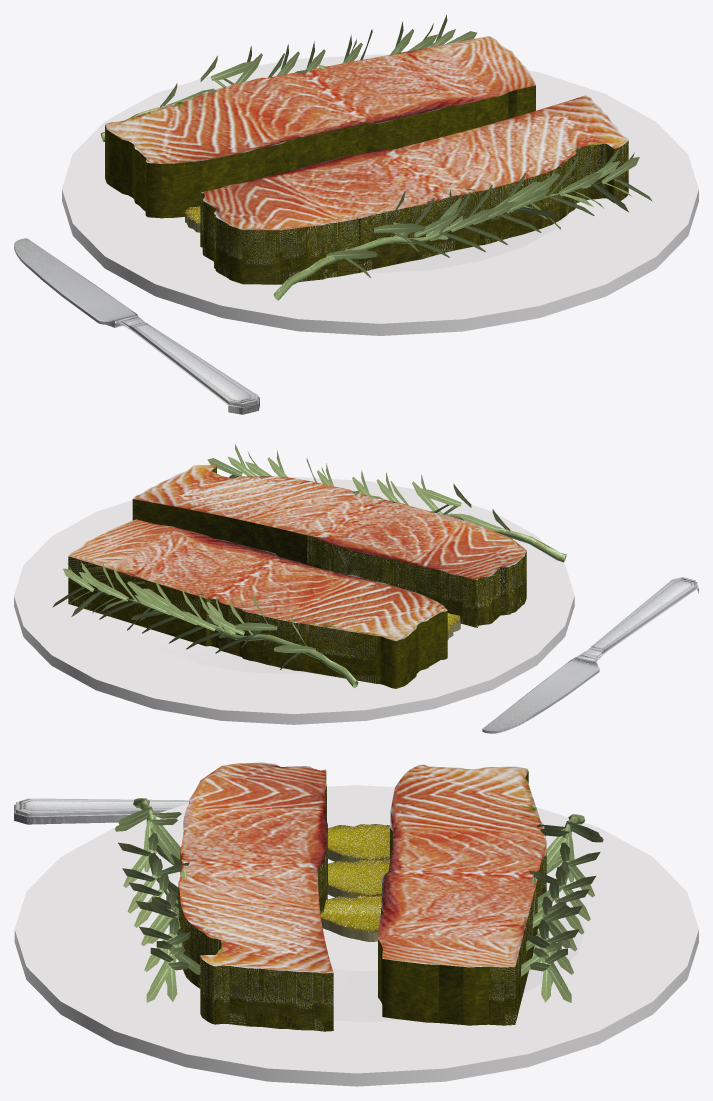
File: comida1.glb
3 renders of one model, top to bottom at view 1: azimuth 30°, elevation 25°; view 2: azimuth 150°, elevation 25°; view 3: azimuth 270°, elevation 25°, orthographic. The views are drawn at different scales.
Visible parts, largest first — view 1: group_2, group_1.001, group_1.005, group_1.006, group_1, group_7.004, group_2.001, group_0; view 2: group_2, group_1.001, group_1.005, group_1.003, group_1.006, group_7.004, group_1.002, group_1, group_2.001, group_3, group_0; view 3: group_2, group_1.001, group_1.005, group_1.006, group_1, group_2.001, group_7.004, group_1.003, group_6.001, group_4.001, group_5.001, group_0 (+2 smaller).
Boxes of the visible parts, x1=… form: group_2: x1=62, y1=54, x2=698, y2=335; group_1.001: x1=105, y1=36, x2=535, y2=163; group_1.005: x1=201, y1=95, x2=628, y2=230; group_1.006: x1=200, y1=140, x2=628, y2=284; group_1: x1=105, y1=85, x2=535, y2=218; group_7.004: x1=14, y1=238, x2=259, y2=414; group_2.001: x1=363, y1=211, x2=572, y2=272; group_0: x1=273, y1=173, x2=601, y2=300; group_2: x1=14, y1=477, x2=574, y2=724; group_1.001: x1=68, y1=519, x2=447, y2=641; group_1.005: x1=133, y1=465, x2=526, y2=579; group_1.003: x1=68, y1=556, x2=376, y2=683; group_1.006: x1=211, y1=466, x2=526, y2=627; group_7.004: x1=482, y1=577, x2=698, y2=733; group_1.002: x1=132, y1=499, x2=306, y2=564; group_1: x1=376, y1=610, x2=447, y2=688; group_2.001: x1=118, y1=619, x2=312, y2=674; group_3: x1=95, y1=580, x2=358, y2=688; group_0: x1=317, y1=470, x2=566, y2=562; group_2: x1=14, y1=785, x2=698, y2=1086; group_1.001: x1=378, y1=764, x2=546, y2=967; group_1.005: x1=178, y1=762, x2=333, y2=973; group_1.006: x1=178, y1=773, x2=333, y2=1031; group_1: x1=378, y1=771, x2=528, y2=1025; group_2.001: x1=145, y1=859, x2=585, y2=1022; group_7.004: x1=14, y1=798, x2=188, y2=824; group_1.003: x1=489, y1=842, x2=546, y2=1025; group_6.001: x1=328, y1=824, x2=390, y2=860; group_4.001: x1=328, y1=859, x2=389, y2=896; group_5.001: x1=320, y1=895, x2=381, y2=932; group_0: x1=133, y1=798, x2=176, y2=958.
Bounding box in the file's own units: 11.37 × 2.04 × 10.67.
Materials: 9 (5 with a texture image).
